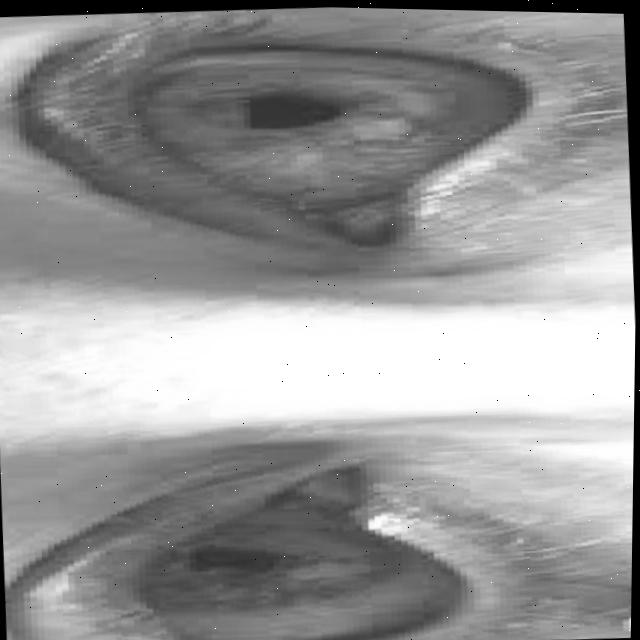Rosacea: (70, 17, 536, 246), (120, 455, 485, 640)
